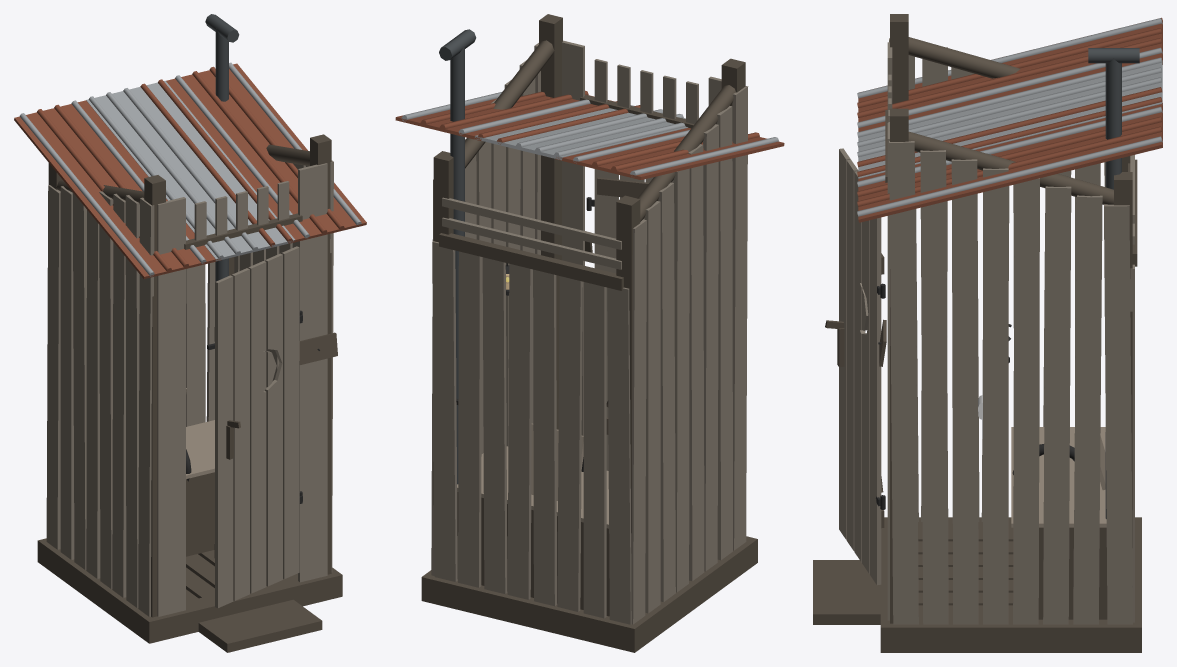
File: latrine.glb
3 views of the same model, side by side, from view 1: azimuth 30°, elevation 25°; view 2: azimuth 150°, elevation 25°; view 3: azimuth 270°, elevation 25° (orthographic). The views are drawn at different scales.
Parts seen in each view (by area): view 1: Mesh_DoorWithMoon, Mesh_RoofBaseC, Mesh_RoofBaseR, Mesh_RoofBaseL, Mesh_PlankFR2, Mesh_PlankFL2, Mesh_PlankFL1, Mesh_PlankFR1, Mesh_PlankR_7, Mesh_PlankR_1, Mesh_PlankR_6, Mesh_PlankR_5 (+35 smaller); view 2: Mesh_PlankB_6, Mesh_PlankB_1, Mesh_PlankB_0, Mesh_PlankB_4, Mesh_PlankB_5, Mesh_PlankB_2, Mesh_PlankB_3, Mesh_PlankB_7, Mesh_PlankR_7, Mesh_PlankR_6, Mesh_PlankR_5, Mesh_PlankR_3 (+47 smaller); view 3: Mesh_DoorWithMoon, Mesh_PlankL_7, Mesh_PlankL_6, Mesh_PlankL_5, Mesh_PlankL_3, Mesh_PlankL_2, Mesh_PlankL_4, Mesh_PlankL_1, Mesh_PlankL_0, Mesh_BaseLeft, Mesh_RoofBaseL, Mesh_RoofBaseC (+31 smaller).
Boxes of the visible parts, <box> form: Mesh_DoorWithMoon: <box>215,246,299,607</box>; Mesh_RoofBaseC: <box>86,80,295,261</box>; Mesh_RoofBaseR: <box>14,100,221,278</box>; Mesh_RoofBaseL: <box>166,63,366,243</box>; Mesh_PlankFR2: <box>157,200,175,616</box>; Mesh_PlankFL2: <box>298,166,313,582</box>; Mesh_PlankFL1: <box>308,163,327,579</box>; Mesh_PlankFR1: <box>171,197,185,613</box>; Mesh_PlankR_7: <box>138,197,154,616</box>; Mesh_PlankR_1: <box>60,186,74,559</box>; Mesh_PlankR_6: <box>125,195,139,607</box>; Mesh_PlankR_5: <box>112,193,126,597</box>; Mesh_PlankB_6: <box>583,282,606,618</box>; Mesh_PlankB_1: <box>458,251,481,587</box>; Mesh_PlankB_0: <box>432,241,457,581</box>; Mesh_PlankB_4: <box>533,269,556,606</box>; Mesh_PlankB_5: <box>557,276,582,611</box>; Mesh_PlankB_2: <box>482,257,507,593</box>; Mesh_PlankB_3: <box>507,263,532,599</box>; Mesh_PlankB_7: <box>607,287,631,624</box>; Mesh_PlankR_7: <box>732,86,748,550</box>; Mesh_PlankR_6: <box>716,106,732,560</box>; Mesh_PlankR_5: <box>703,124,718,571</box>; Mesh_PlankR_3: <box>673,168,689,592</box>; Mesh_DoorWithMoon: <box>839,148,881,585</box>; Mesh_PlankL_7: <box>889,141,918,624</box>; Mesh_PlankL_6: <box>920,150,948,624</box>; Mesh_PlankL_5: <box>951,159,978,624</box>; Mesh_PlankL_3: <box>1013,178,1039,624</box>; Mesh_PlankL_2: <box>1043,186,1071,624</box>; Mesh_PlankL_4: <box>983,168,1008,624</box>; Mesh_PlankL_1: <box>1073,195,1102,624</box>; Mesh_PlankL_0: <box>1104,204,1132,624</box>; Mesh_BaseLeft: <box>880,615,1141,652</box>; Mesh_RoofBaseL: <box>858,103,1162,222</box>; Mesh_RoofBaseC: <box>858,58,1162,178</box>.
Bounding box in the file's own units: 1.29 × 2.81 × 1.5.
